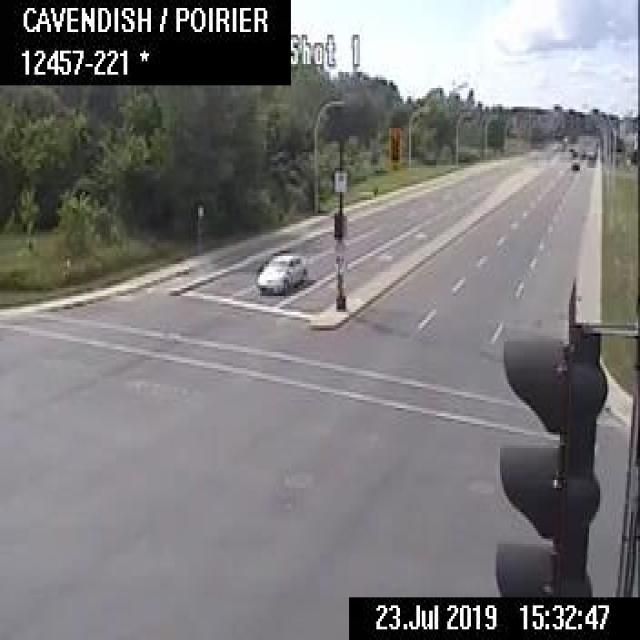vehicle: (255, 248, 307, 293), (569, 157, 579, 168)
